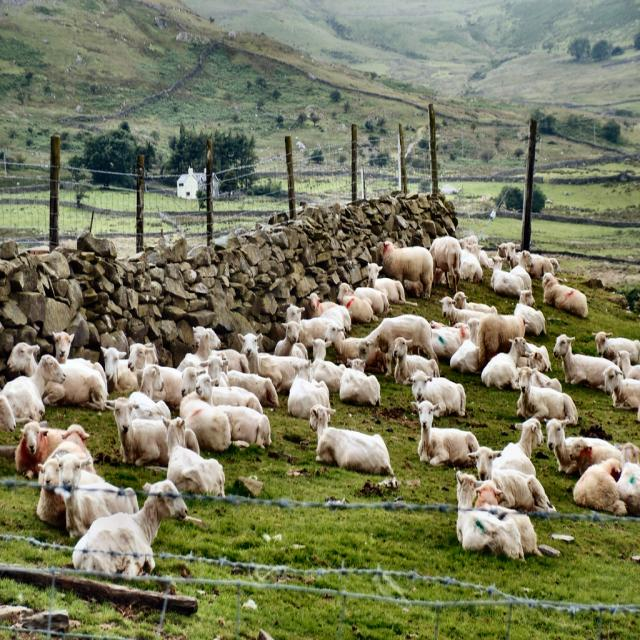Sheep: (0, 235, 640, 580)
